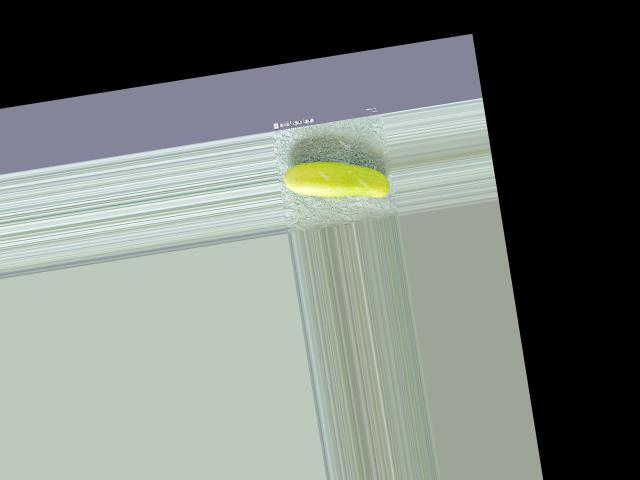cucumber: (282, 150, 392, 211)
